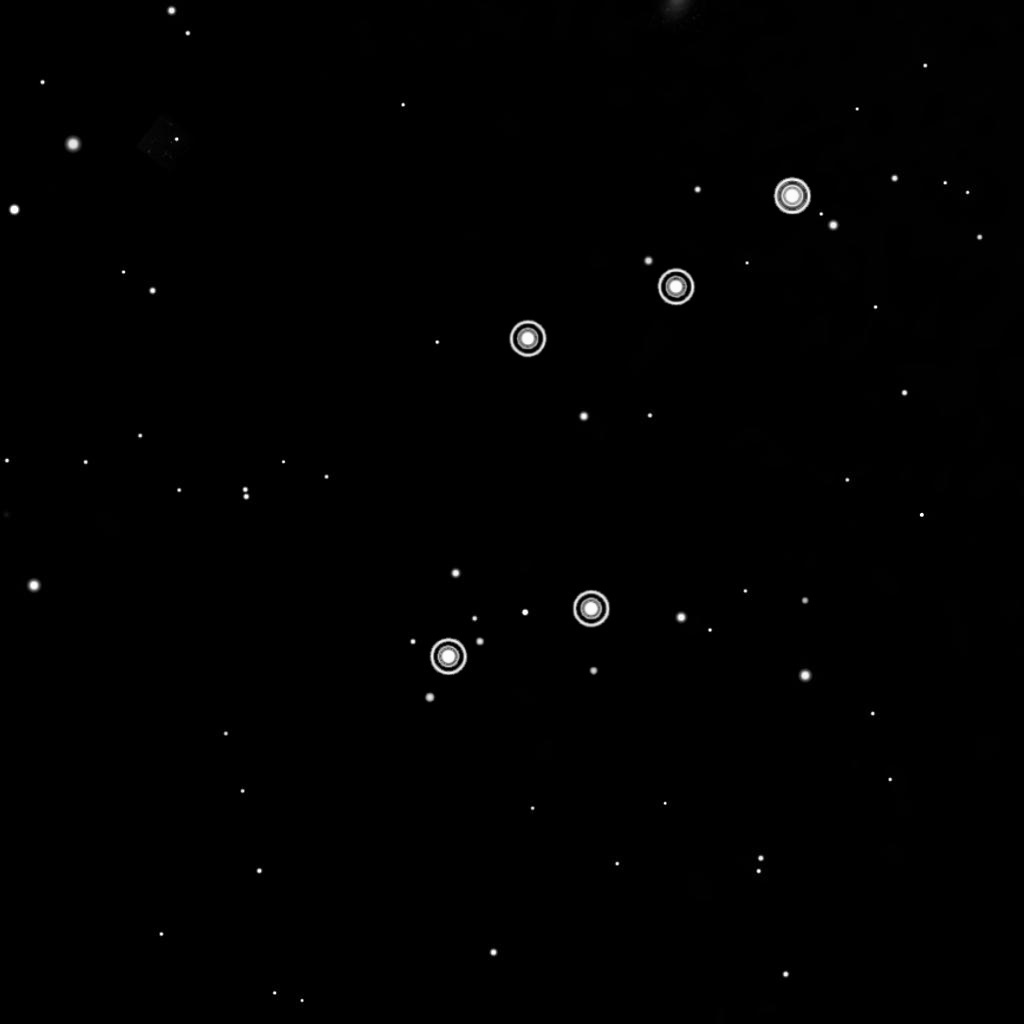lyra: (423, 167, 819, 679)
